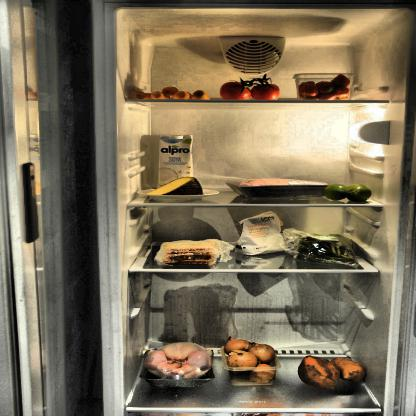apple: (323, 184, 372, 202)
carrot: (137, 86, 211, 101)
cheese: (146, 176, 203, 198)
chicken: (144, 342, 216, 383)
green_beans: (290, 231, 364, 268)
ground_beef: (232, 177, 330, 199)
milk: (159, 134, 193, 190)
onion: (223, 336, 280, 385)
strawberries: (298, 74, 352, 102)
sweet_potato: (298, 354, 370, 391)
tomato: (217, 74, 285, 101)
